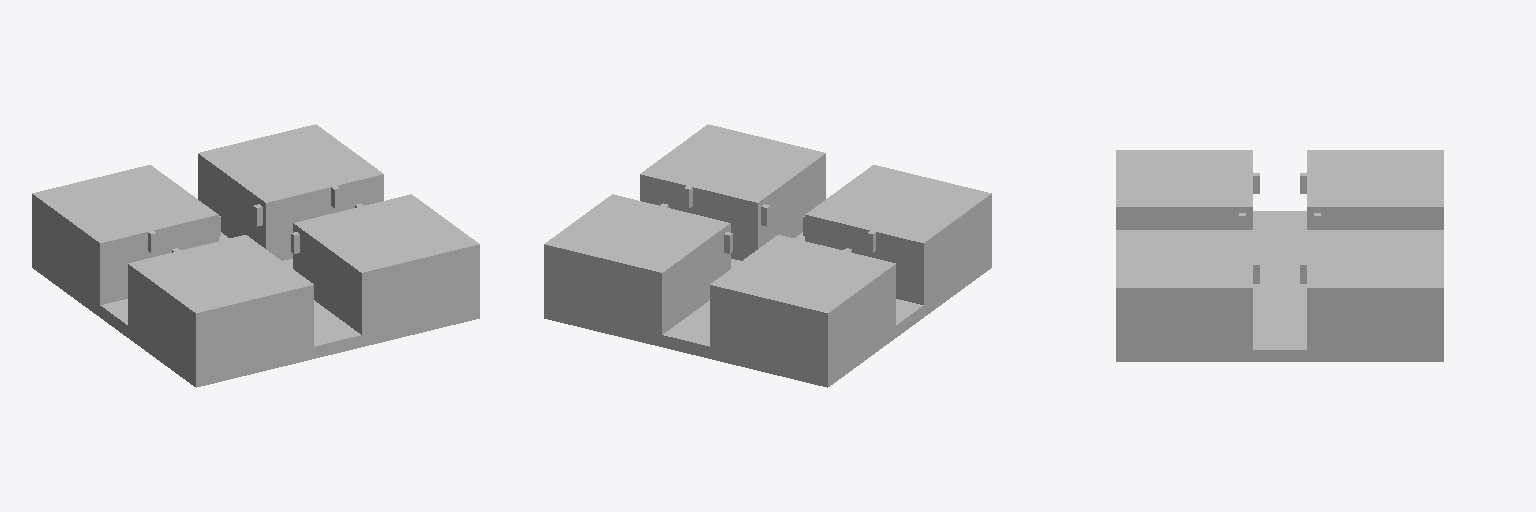
Rendered from 4-way room-01.obj.
3 renders of one model, left to right at view 1: azimuth 30°, elevation 25°; view 2: azimuth 150°, elevation 25°; view 3: azimuth 270°, elevation 25°, orthographic.
Bounding box in the file's own units: 48 × 12 × 48.